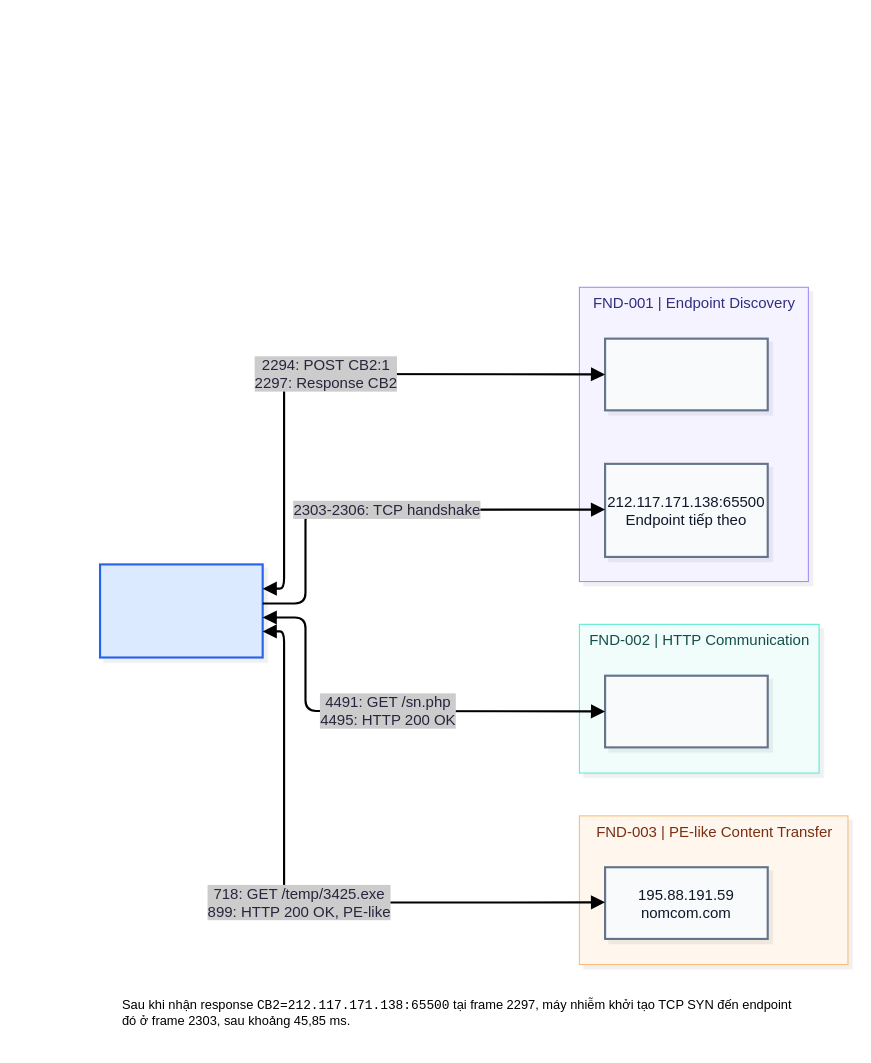
Some shapes in this 871 by 1063 pixel diagram are drawn without their labels. Here are the shapes that lost their labels. From the top down, the centre of each, then its label:
At (x=688, y=376): "200.171.4.222:6667 HTTP-like CB2".
At (x=183, y=612): "MÁY NHIỄM NERIS 147.32.84.165".
At (x=688, y=713): "60.190.223.75:888 w.nucleardiscover.com".
